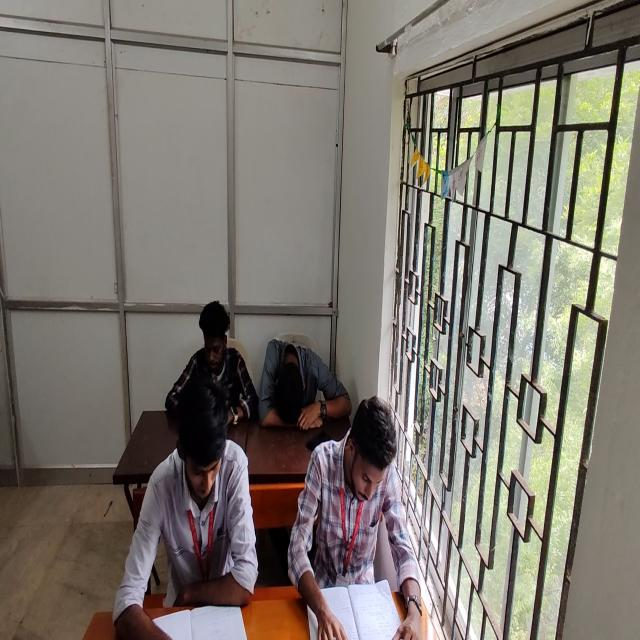reading: (114, 375, 258, 639), (285, 396, 407, 640)
sleeping: (259, 336, 348, 430)
using_mobile: (165, 298, 259, 427)
